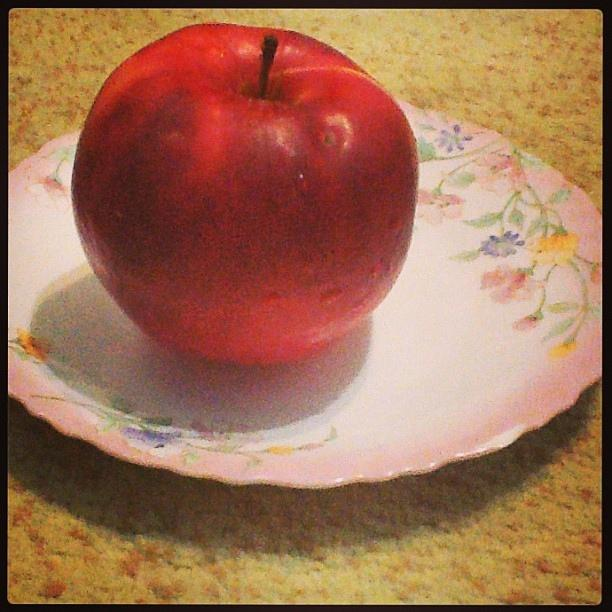apple: (71, 23, 419, 366)
